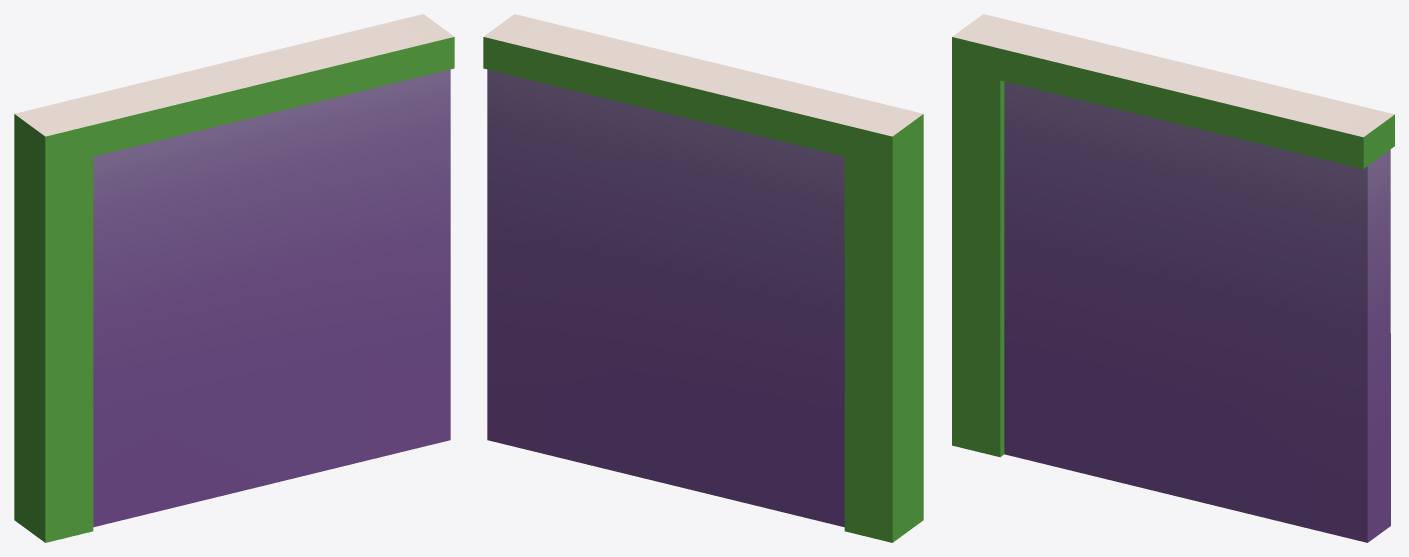
Rendered from M1_Wall_02_1.fbx.
The picture shows the model from 3 angles, left to right: view 1: azimuth 30°, elevation 25°; view 2: azimuth 150°, elevation 25°; view 3: azimuth 330°, elevation 25°; orthographic projection.
Parts seen in each view (by area): view 1: M1_Wall_02_1; view 2: M1_Wall_02_1; view 3: M1_Wall_02_1.
Boxes of the visible parts, x1,y1,x2,y2 form: M1_Wall_02_1: (14,14,454,542); M1_Wall_02_1: (483,14,923,542); M1_Wall_02_1: (952,14,1394,542).
Size of the model in its own units: 400 by 379 by 52.74.
